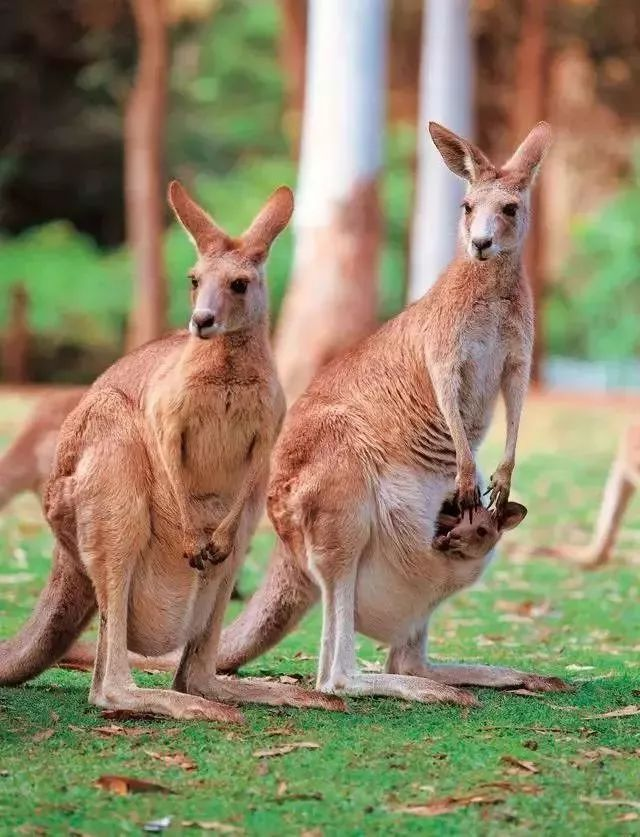kangaroo: (14, 119, 584, 713), (7, 178, 351, 739), (419, 449, 532, 571)
